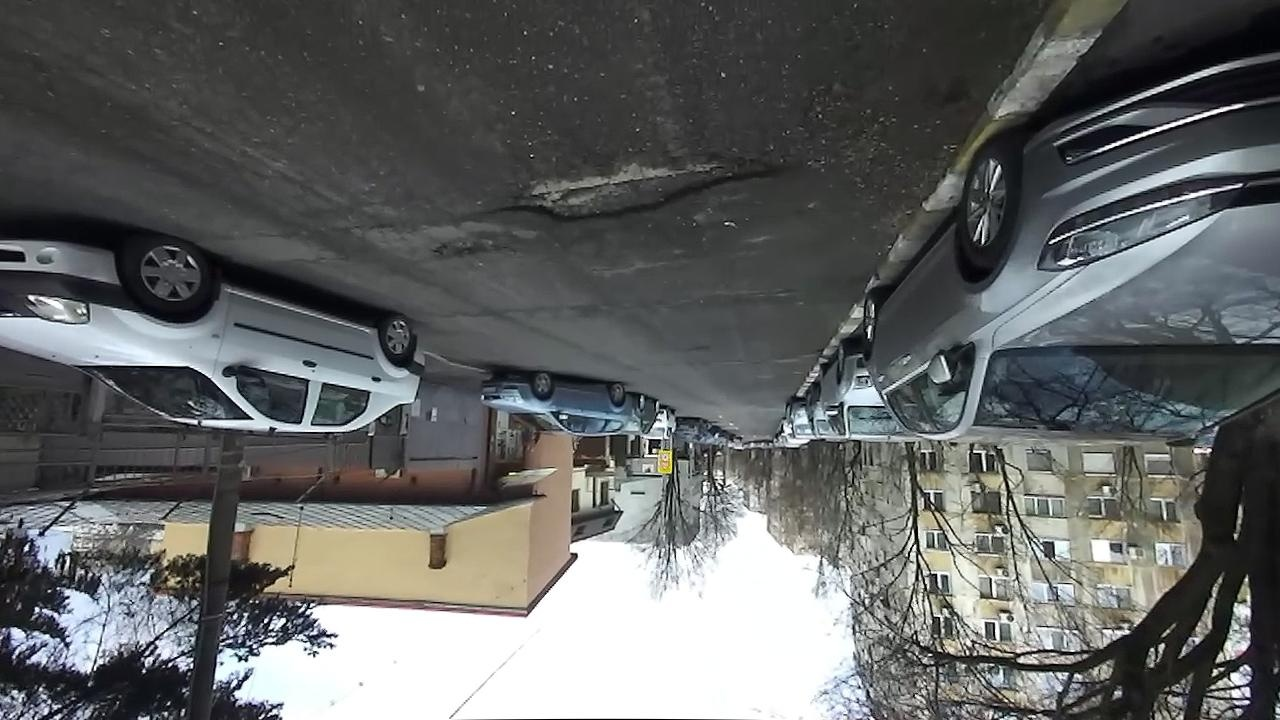pothole: (481, 147, 790, 227), (426, 233, 514, 266)
